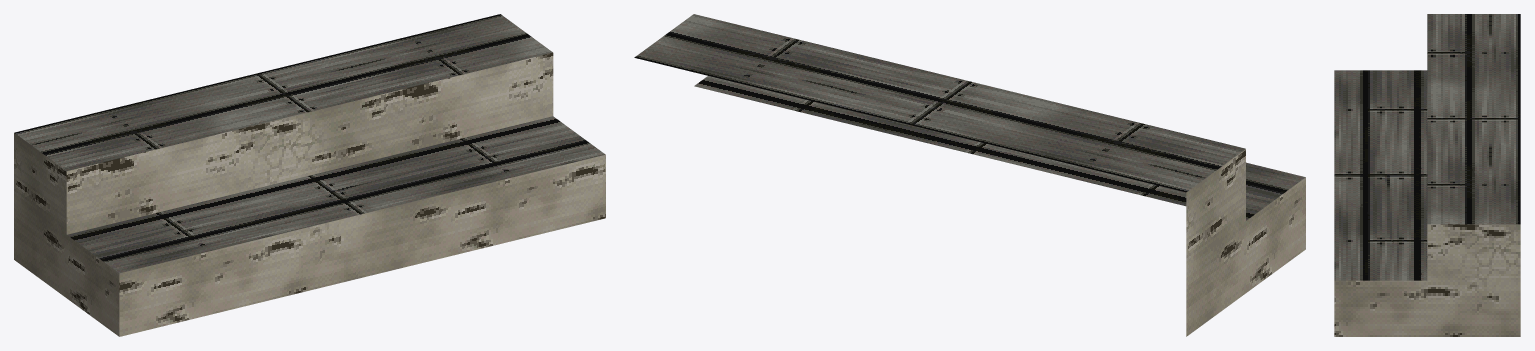
File: house_porch_steps.glb
3 renders of one model, left to right at view 1: azimuth 30°, elevation 25°; view 2: azimuth 150°, elevation 25°; view 3: azimuth 270°, elevation 25°, orthographic. The views are drawn at different scales.
Parts seen in each view (by area): view 1: house_porch_steps; view 2: house_porch_steps; view 3: house_porch_steps.
Part boxes in pixels (bbox=[...]): house_porch_steps: bbox=[14, 14, 605, 336]; house_porch_steps: bbox=[634, 14, 1305, 336]; house_porch_steps: bbox=[1334, 14, 1520, 336].
Bounding box in the file's own units: 1.6 × 0.4 × 0.6.
2 materials, 2 textured.
